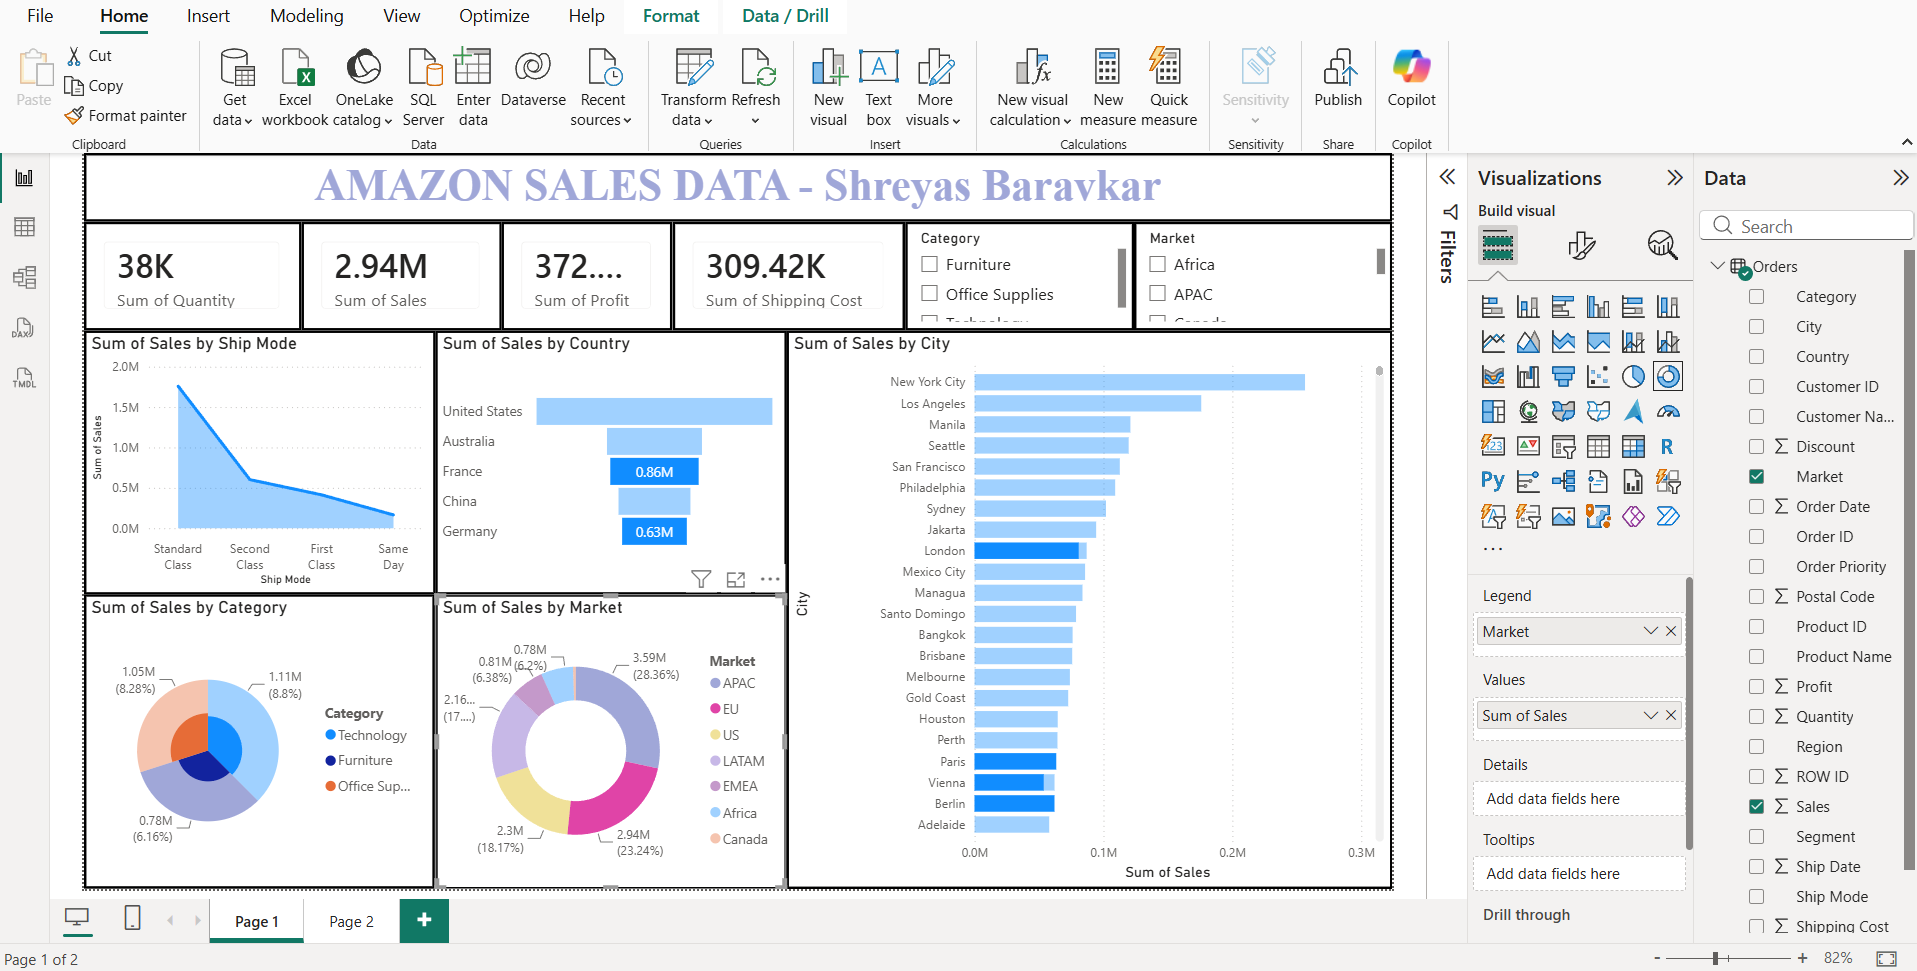

This screenshot's page, from the dashboard's own definition file:
{"tool":"powerbi","page":{"name":"Page 1","canvas":[1280,720],"ordinal":0},"visuals":[{"type":"pieChart","fields":{"Category":["Orders.Category"],"Y":["Sum(Orders.Sales)"]},"box":[0,432.2,343.1,288.2],"z":0},{"type":"donutChart","fields":{"Category":["Orders.Market"],"Y":["Sum(Orders.Sales)"]},"box":[343.6,431.7,343.6,288.6],"z":1000},{"type":"areaChart","fields":{"Category":["Orders.Ship Mode"],"Y":["Sum(Orders.Sales)"]},"box":[0,173.6,343.6,258],"z":2000},{"type":"clusteredBarChart","fields":{"Category":["Orders.City"],"Y":["Sum(Orders.Sales)"]},"box":[687.2,173.6,593.1,546.6],"z":3000},{"type":"funnel","fields":{"Category":["Orders.Country"],"Y":["Sum(Orders.Sales)"]},"box":[343.6,173.6,343.6,258],"z":3001},{"type":"textbox","box":[0,0,1280.3,67.3],"z":3002},{"type":"cardVisual","fields":{"Data":["Sum(Orders.Quantity)"]},"box":[0,67.3,212.8,106.4],"z":3003},{"type":"cardVisual","fields":{"Data":["Sum(Orders.Sales)"]},"box":[212.8,67.3,195.7,106.4],"z":3004},{"type":"cardVisual","fields":{"Data":["Sum(Orders.Profit)"]},"box":[408.4,67.3,167.5,106.4],"z":3005},{"type":"cardVisual","fields":{"Data":["Sum(Orders.Shipping Cost)"]},"box":[576,67.3,227.4,106.4],"z":3006},{"type":"slicer","fields":{"Values":["Orders.Category"]},"box":[803.4,67.3,223.8,106.4],"z":3007},{"type":"slicer","fields":{"Values":["Orders.Market"]},"box":[1027.2,67.3,253.1,106.4],"z":3008}]}

Visuals, with their boxes on the page's 1280x720 design canvas (x1, y1, x2, y2). These are canvas units, not pixel positions in the 1917x971 screenshot, which may show the page scaled, cropped or inside an application window:
pieChart - Orders.Category x Sum(Orders.Sales): rect(0, 432, 343, 720)
donutChart - Orders.Market x Sum(Orders.Sales): rect(344, 432, 687, 720)
areaChart - Orders.Ship Mode x Sum(Orders.Sales): rect(0, 174, 344, 432)
clusteredBarChart - Orders.City x Sum(Orders.Sales): rect(687, 174, 1280, 720)
funnel - Orders.Country x Sum(Orders.Sales): rect(344, 174, 687, 432)
textbox: rect(0, 0, 1280, 67)
cardVisual - Sum(Orders.Quantity): rect(0, 67, 213, 174)
cardVisual - Sum(Orders.Sales): rect(213, 67, 408, 174)
cardVisual - Sum(Orders.Profit): rect(408, 67, 576, 174)
cardVisual - Sum(Orders.Shipping Cost): rect(576, 67, 803, 174)
slicer - Orders.Category: rect(803, 67, 1027, 174)
slicer - Orders.Market: rect(1027, 67, 1280, 174)
